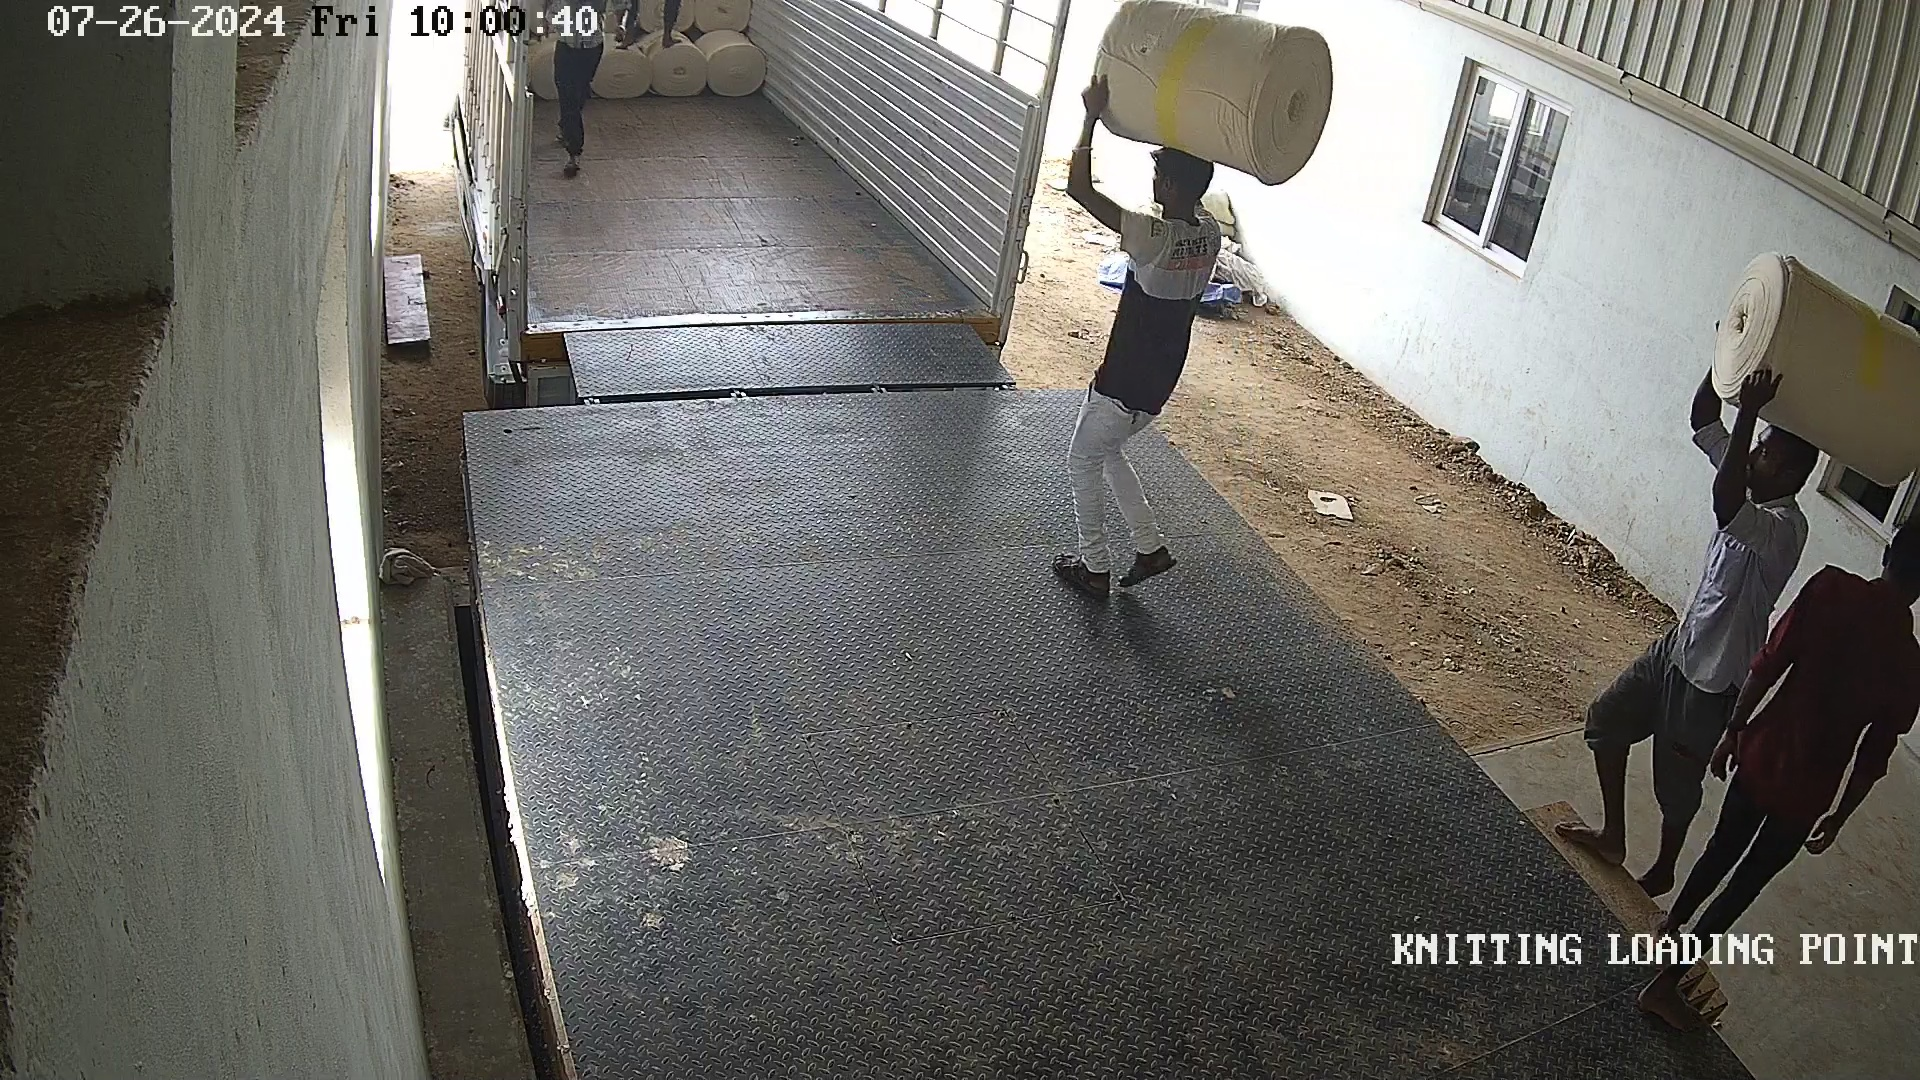bag: (1068, 3, 1342, 193)
